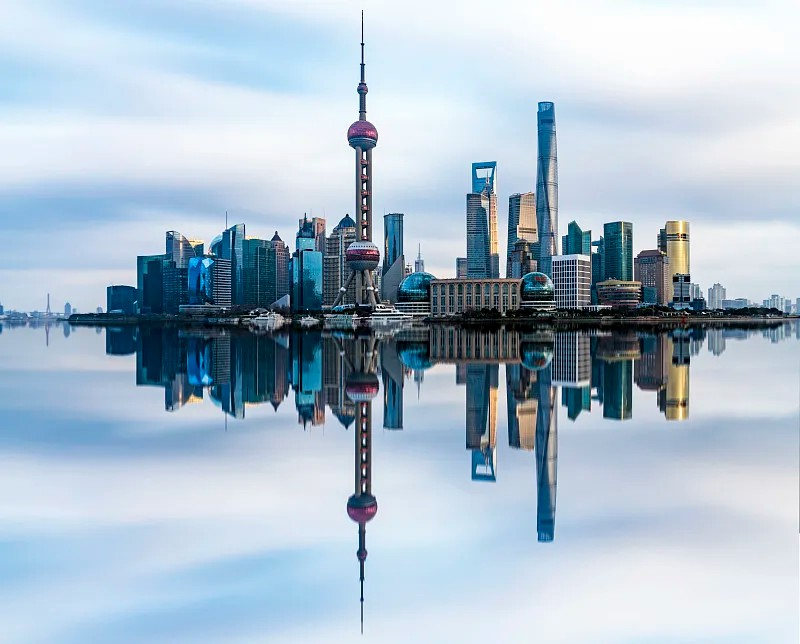Oriental: (331, 9, 382, 305)
